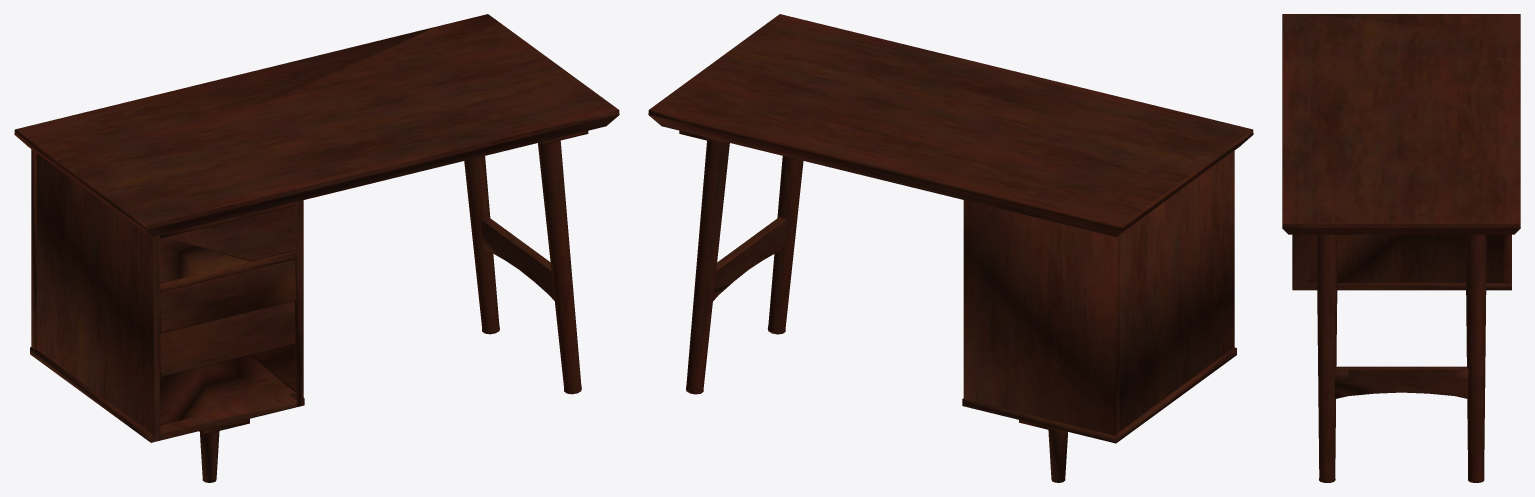
File: B075ZBW1SN.glb
The picture shows the model from 3 angles, left to right: view 1: azimuth 30°, elevation 25°; view 2: azimuth 150°, elevation 25°; view 3: azimuth 270°, elevation 25°; orthographic projection. The views are drawn at different scales.
Parts seen in each view (by area): view 1: RootNode; view 2: RootNode; view 3: RootNode.
Part boxes in pixels (box(x1,y1,x2,y2)): RootNode: box(14, 14, 619, 482); RootNode: box(648, 14, 1253, 482); RootNode: box(1282, 14, 1520, 482).
Bounding box in the file's own units: 1.28 × 0.7575 × 0.6122.
1 material, 1 textured.
